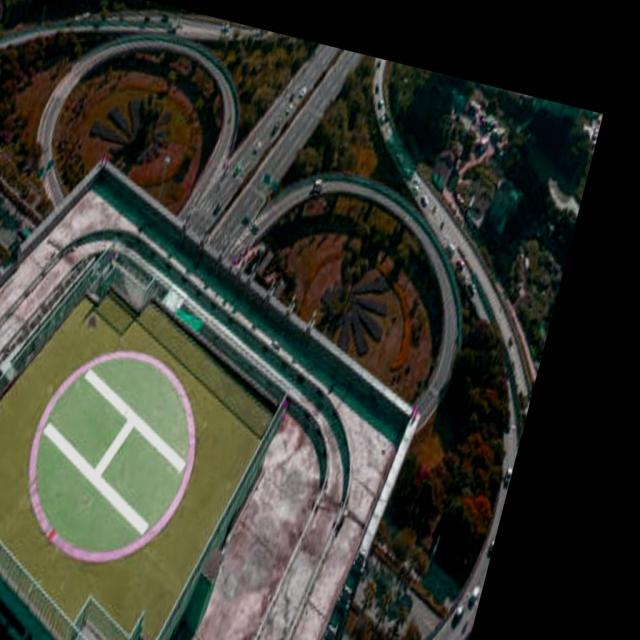helipad: (24, 346, 198, 564)
